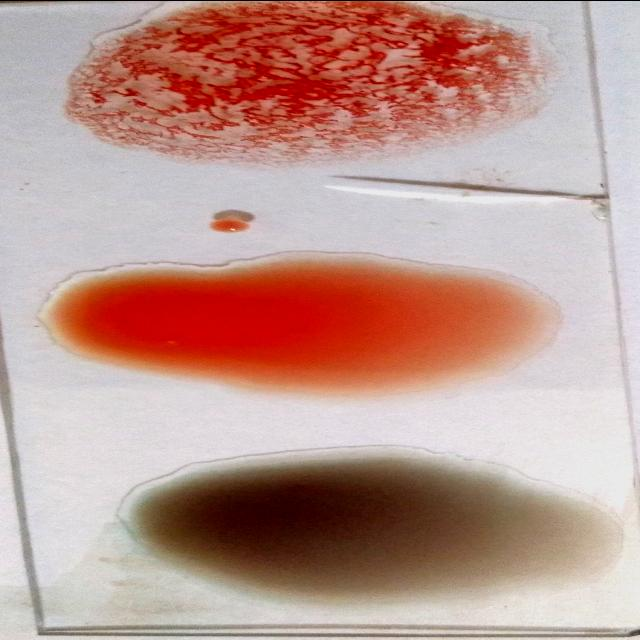D: (74, 3, 528, 164)
